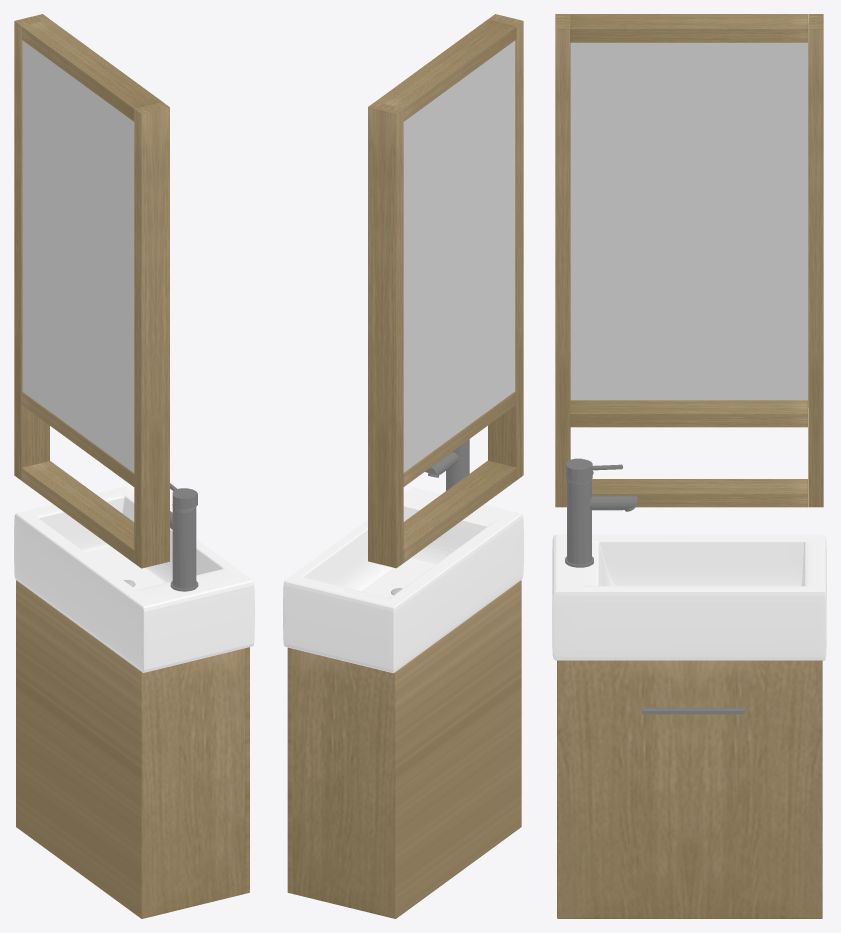
File: RN-8307-MUEBLE-BE.glb
3 views of the same model, side by side, from view 1: azimuth 30°, elevation 25°; view 2: azimuth 150°, elevation 25°; view 3: azimuth 270°, elevation 25° (orthographic). The views are drawn at different scales.
Visible parts, largest first — view 1: ChamferBox005, Box003, Box002, Cylinder001; view 2: ChamferBox005, Box003, Box002, Cylinder001; view 3: ChamferBox005, Box003, Box002, Cylinder001, Manija1.
Part boxes in pixels (x1,y1,x2,y2): ChamferBox005: (14,14,249,918); Box003: (22,40,134,472); Box002: (14,487,254,672); Cylinder001: (170,483,198,591); ChamferBox005: (287,14,523,918); Box003: (403,40,515,472); Box002: (283,487,523,673); Cylinder001: (425,439,469,490); ChamferBox005: (555,14,823,918); Box003: (570,23,808,407); Box002: (552,534,826,660); Cylinder001: (565,458,637,567); Manija1: (642,708,744,714).
Size of the model in its own units: 0.2402 by 1.61 by 0.4709.
Materials: 4 (1 with a texture image).
